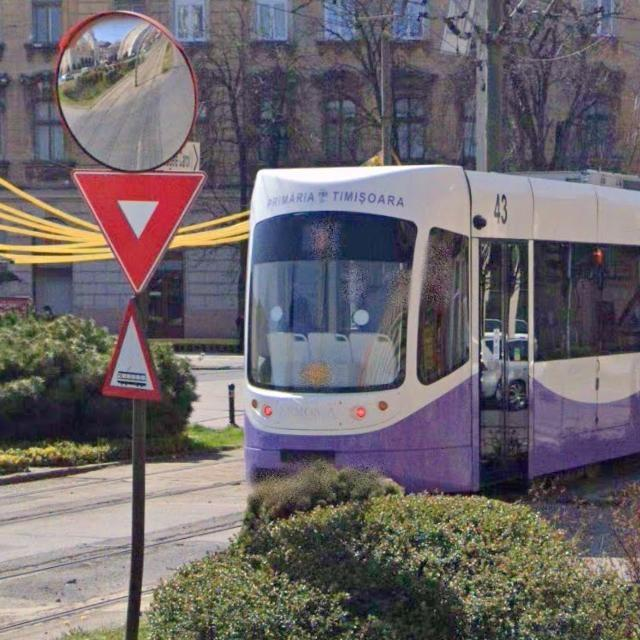prio_give_way: (72, 170, 207, 297)
